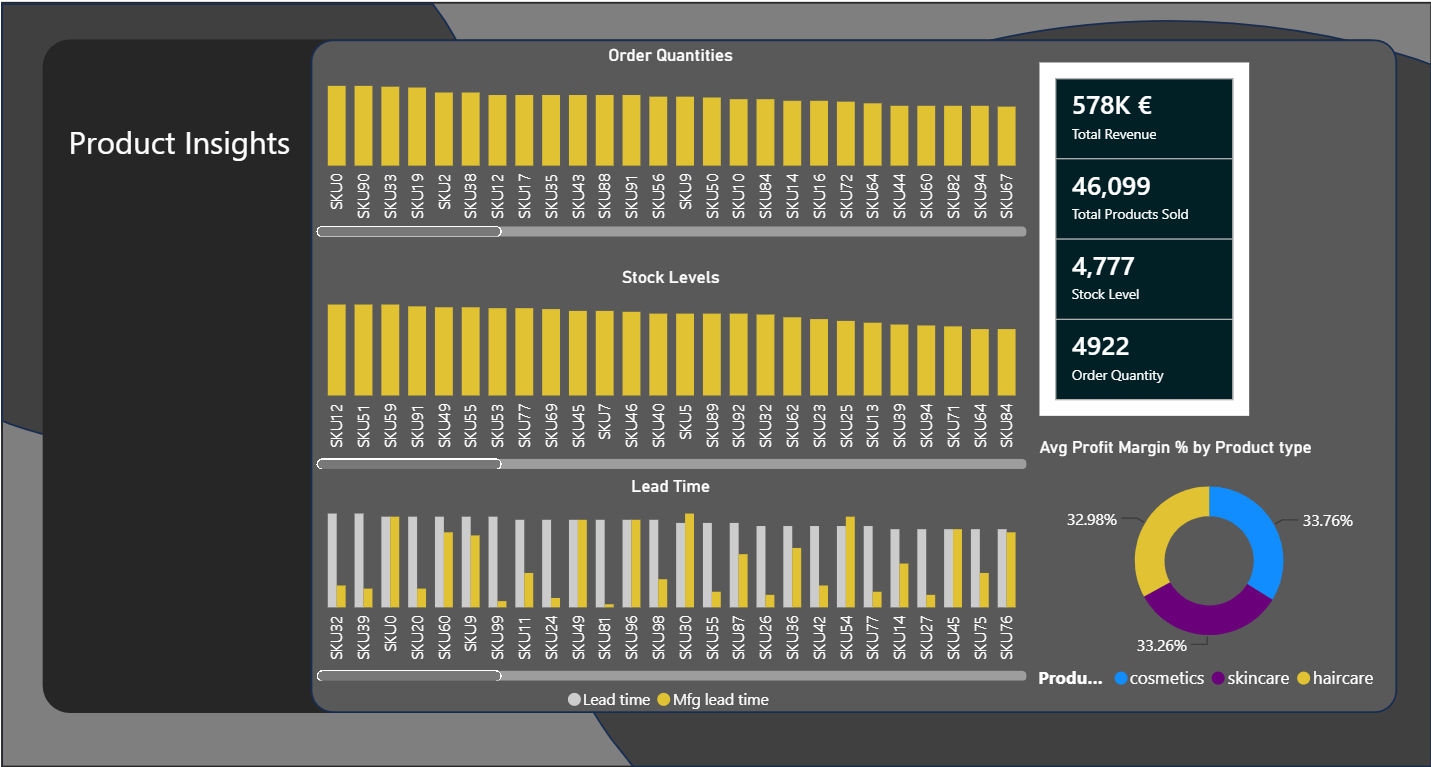

Layout of this report page (visuals, bound fields, positions):
{"tool":"powerbi","page":{"name":"Products","canvas":[1280,720],"ordinal":1},"visuals":[{"type":"columnChart","title":"Order Quantities","fields":{"Y":["_Measures.Order Quantity"],"Category":["supply_chain_data.SKU"]},"box":[324.5,96.8,560.4,153.2],"z":0},{"type":"clusteredColumnChart","title":"Lead Time","fields":{"Category":["supply_chain_data.SKU"],"Y":["Sum(supply_chain_data.Lead time)","Sum(supply_chain_data.Mfg lead time)"]},"box":[324.5,429.4,560.4,191.5],"z":1000},{"type":"columnChart","title":"Stock Levels","fields":{"Y":["_Measures.Stock Level"],"Category":["supply_chain_data.SKU"]},"box":[324.5,268.1,560.4,161.3],"z":2000},{"type":"cardVisual","fields":{"Data":["_Measures.Total Revenue","_Measures.Total Products Sold","_Measures.Stock Level","_Measures.Order Quantity"]},"box":[884.9,104.8,172.3,285.2],"z":3000},{"type":"donutChart","fields":{"Y":["_Measures.Avg Profit Margin %"],"Category":["supply_chain_data.Product type"]},"box":[884.9,399.1,272.1,205.6],"z":4000},{"type":"textbox","box":[134,150.2,190.5,45.4],"z":5000}]}

Visuals, with their boxes on the page's 1280x720 design canvas (x1, y1, x2, y2). These are canvas units, not pixel positions in the 1431x767 screenshot, which may show the page scaled, cropped or inside an application window:
"Order Quantities" columnChart: 324 97 885 250
"Lead Time" clusteredColumnChart: 324 429 885 621
"Stock Levels" columnChart: 324 268 885 429
cardVisual - _Measures.Total Revenue x _Measures.Total Products Sold: 885 105 1057 390
donutChart - _Measures.Avg Profit Margin % x supply_chain_data.Product type: 885 399 1157 605
textbox: 134 150 324 196
